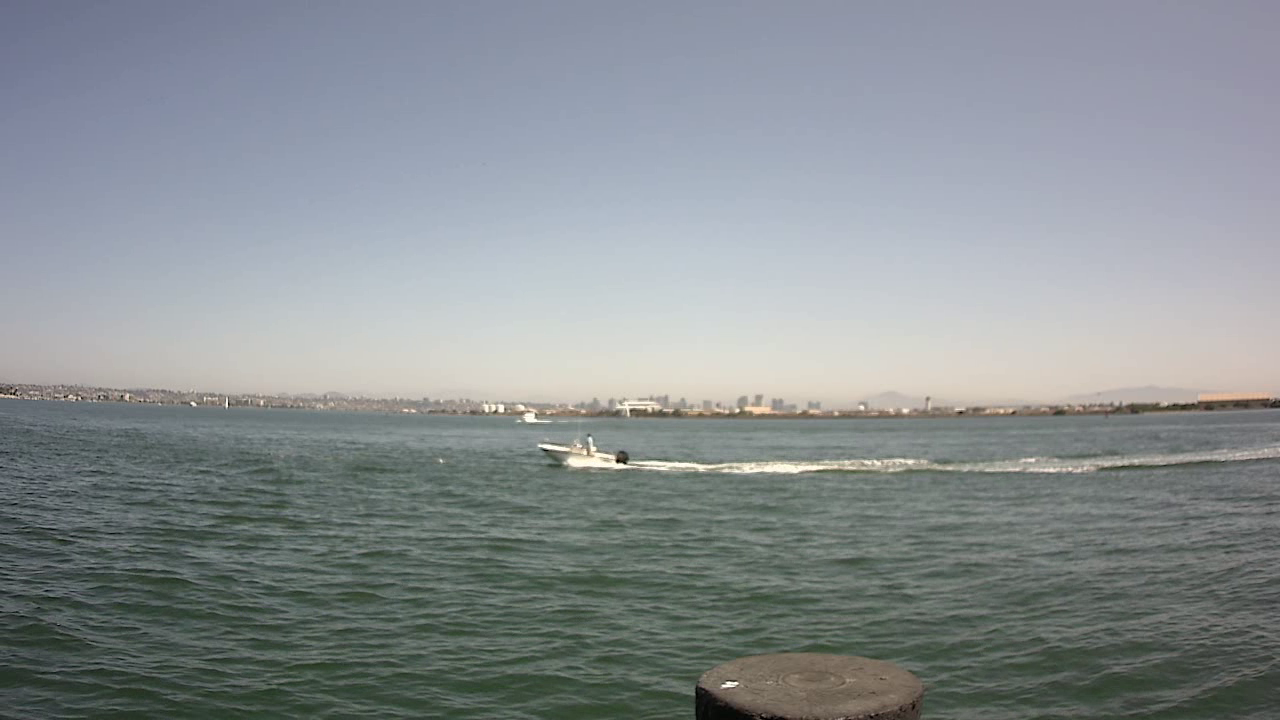target: (533, 419, 635, 477)
